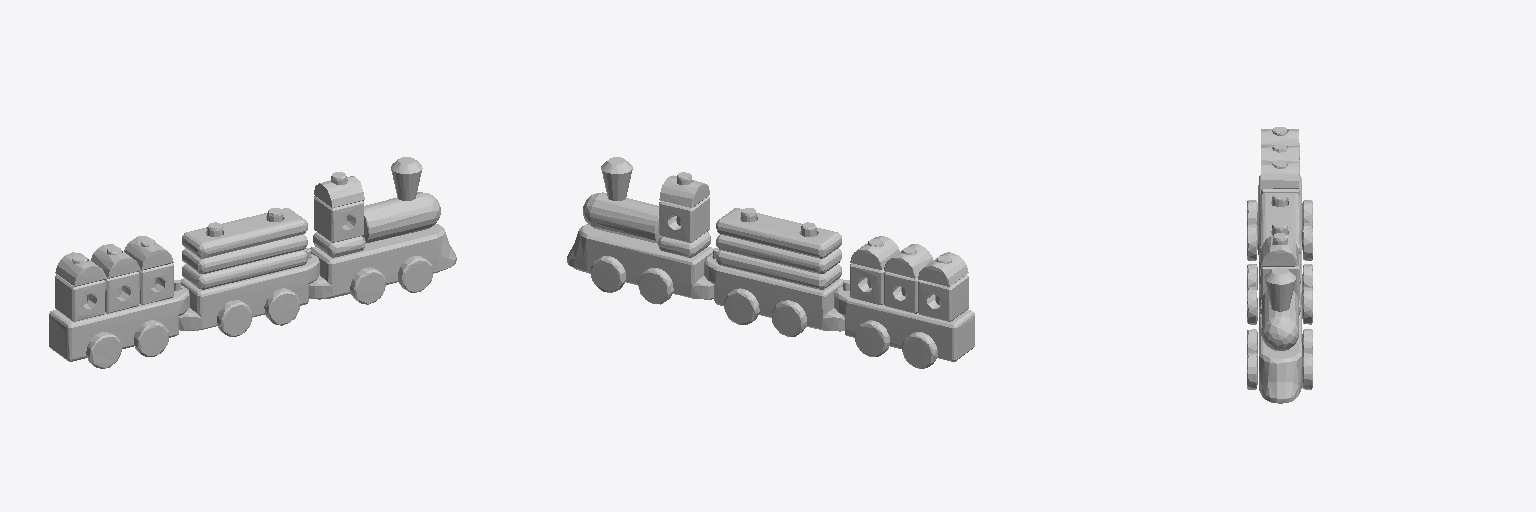
The model's file is train.obj.
3 renders of one model, left to right at view 1: azimuth 30°, elevation 25°; view 2: azimuth 150°, elevation 25°; view 3: azimuth 270°, elevation 25°, orthographic.
Parts seen in each view (by area): view 1: wooden_train01; view 2: wooden_train01; view 3: wooden_train01.
Boxes of the visible parts, x1,y1,x2,y2 form: wooden_train01: [49, 157, 456, 368]; wooden_train01: [567, 157, 974, 368]; wooden_train01: [1247, 127, 1312, 403].
Size of the model in its own units: 53.64 by 15.75 by 7.8.